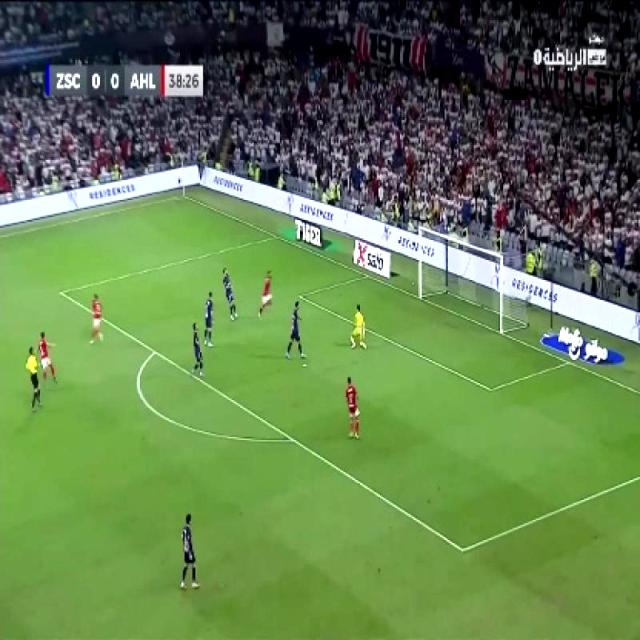bigarea_bottom_inner: (451, 532, 472, 563)
bigarea_top_inner: (52, 280, 68, 302)
bigarea_top_outter: (268, 228, 284, 245)
bottom_arc_area_intersection: (283, 426, 302, 451)
corner: (174, 188, 191, 202)
smallarea_bottom_inner: (480, 374, 498, 400)
smallarea_bottom_outter: (560, 352, 577, 370)
smallarea_top_inner: (294, 286, 308, 304)
smallarea_top_outter: (357, 265, 375, 285)
top_arc_area_intersection: (143, 338, 163, 364)
